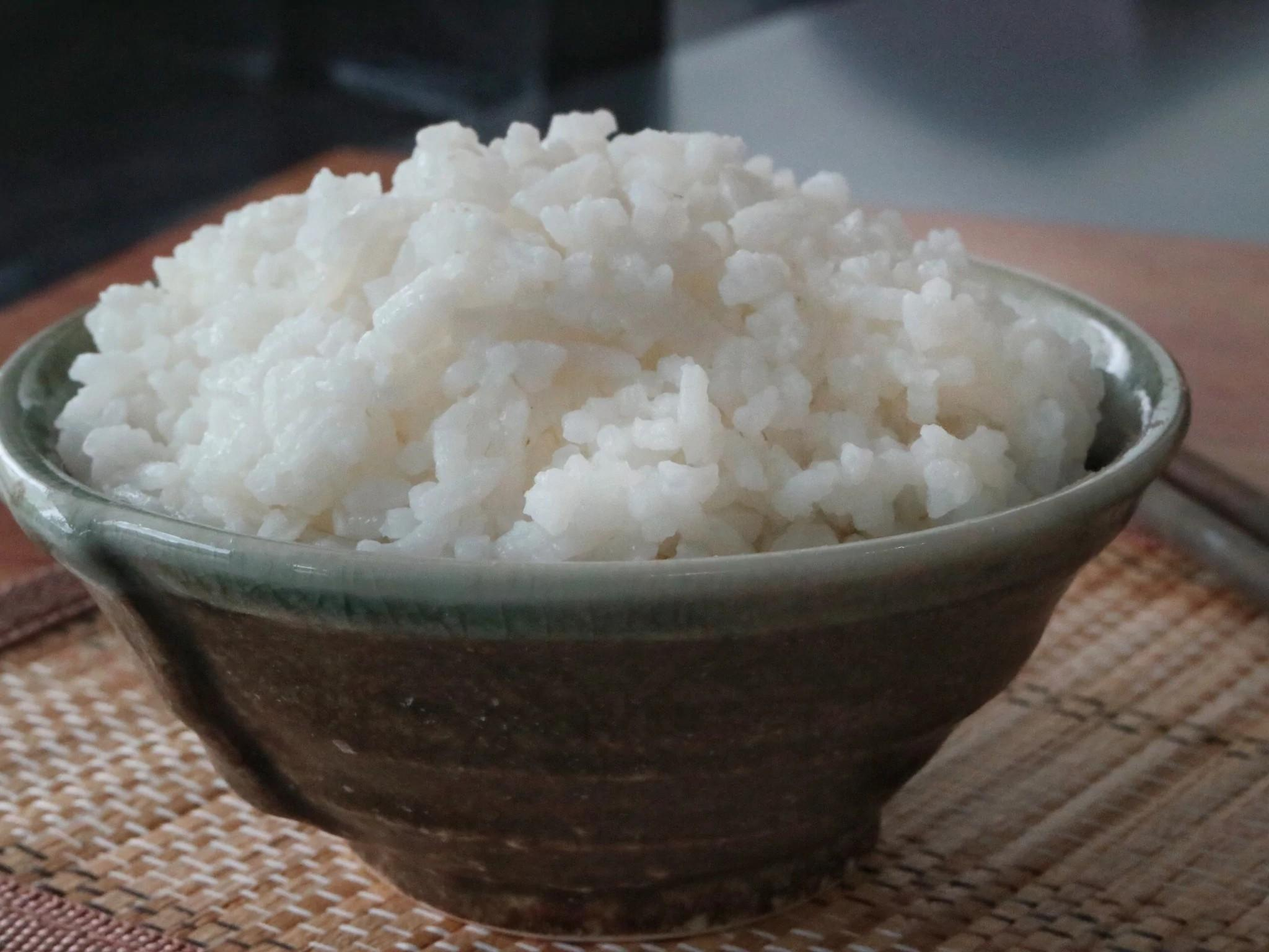WhiteRice: (63, 103, 1091, 570)
